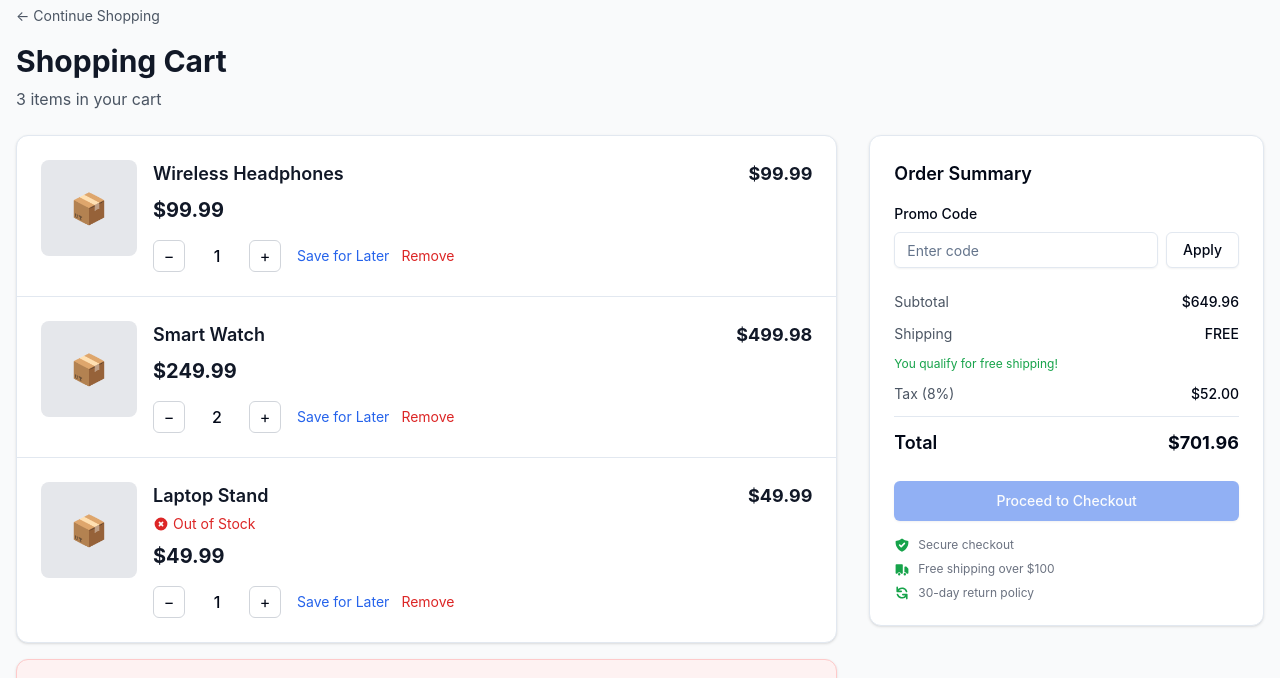
Test: CartPage - Save for Later › should move item back to cart from saved for later
The width and height of the screenshot is (1280, 678).
First save an item
Click the button with test id "save-for-later-1" at (343, 256), box [297,246,389,266]
(page scrolled)
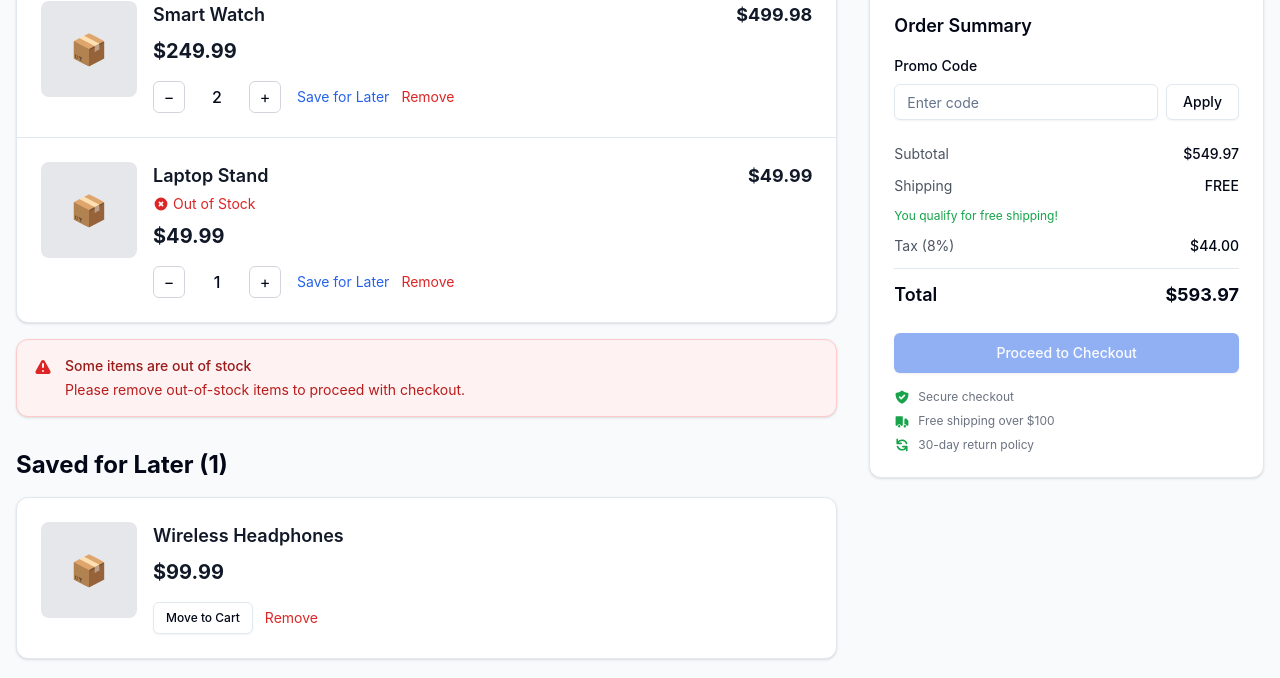
Then move it back
Click the button with test id "move-to-cart-1" at (203, 618), box [153,602,253,634]
(page scrolled)
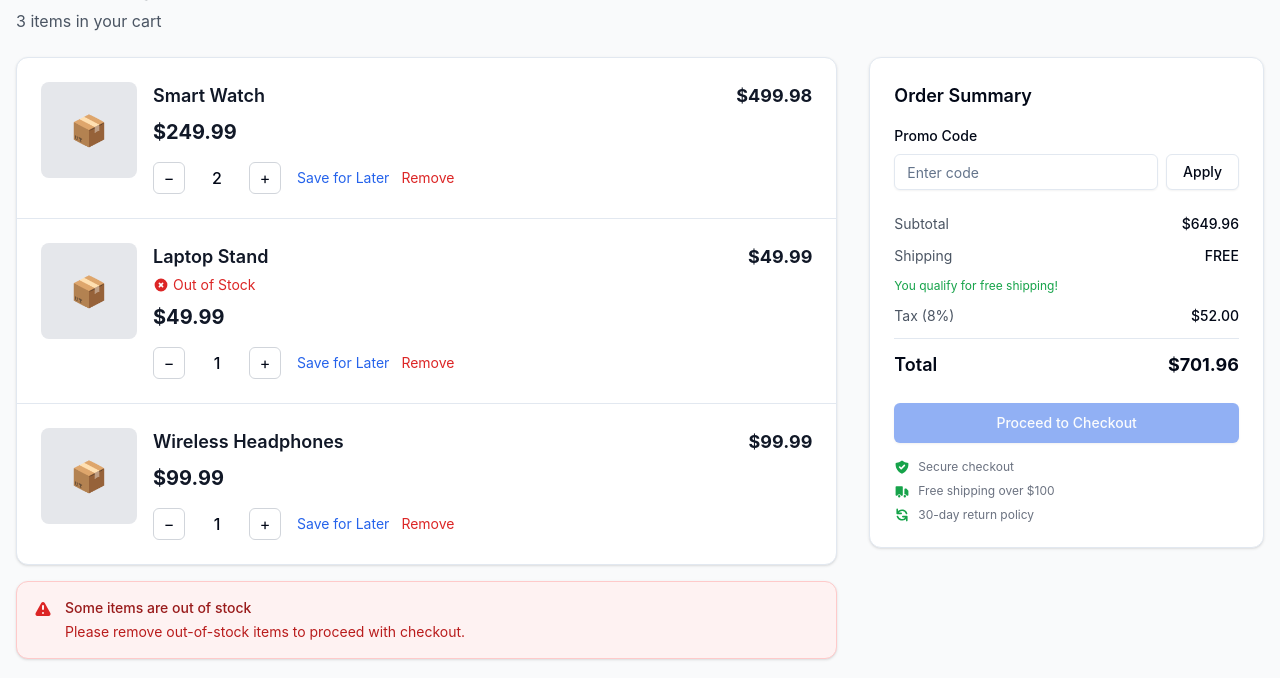
Result: the text "3 items in your cart" is shown at [16,11,162,31]
Result: the element with test id "saved-for-later-section" is gone
